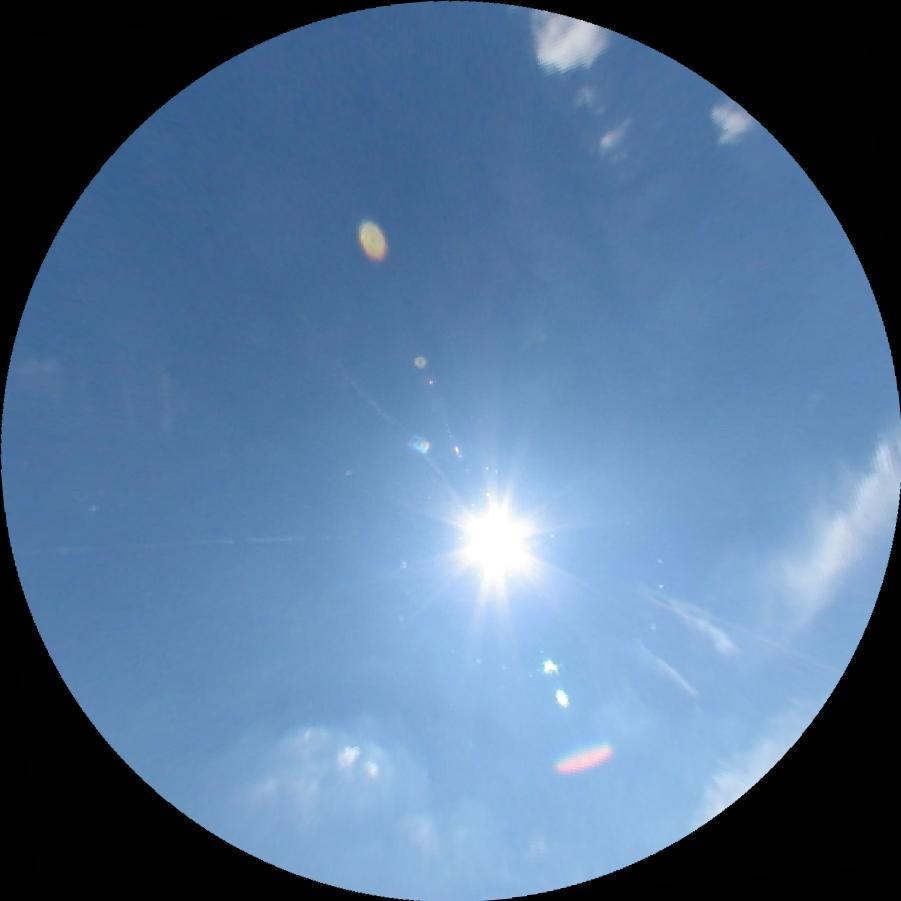contrail old: (343, 369, 452, 482), (639, 643, 699, 697)
parasite: (641, 585, 843, 675), (11, 530, 341, 555), (641, 590, 699, 627)
sun: (443, 492, 544, 592)
